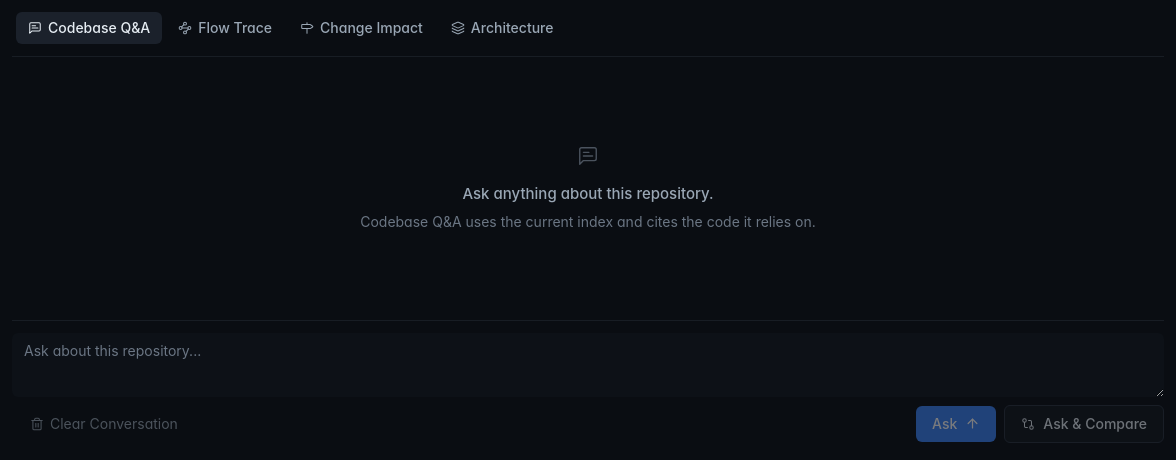
Test case: analysis workspace › removes both visible and stored turns only when Clear Conversation is pressed
Step 1. Type "Clearable question" into the text box named "Question" → (588, 364), box top-left (12, 332), bottom-right (1164, 396)
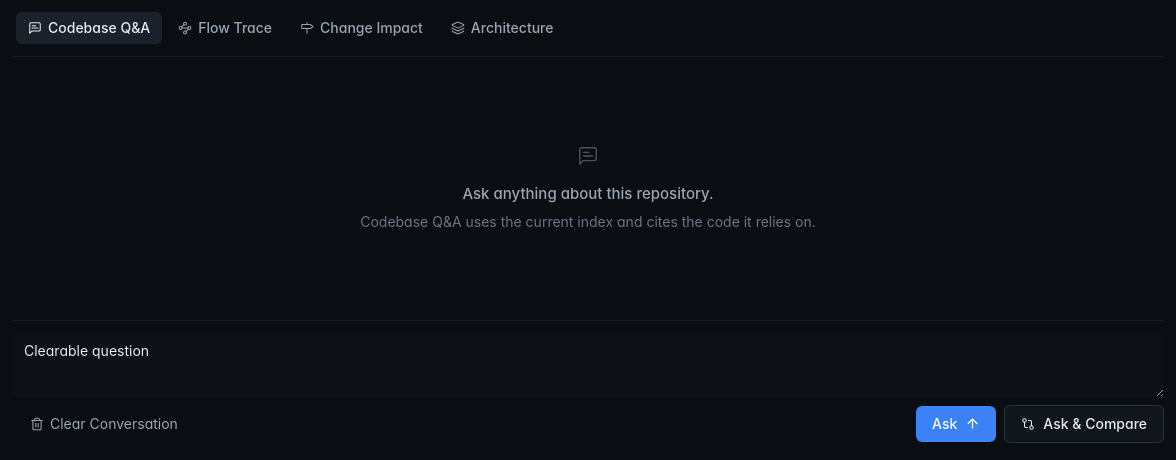
Step 2. Click the button "Ask" → (956, 424), box top-left (916, 406), bottom-right (996, 442)
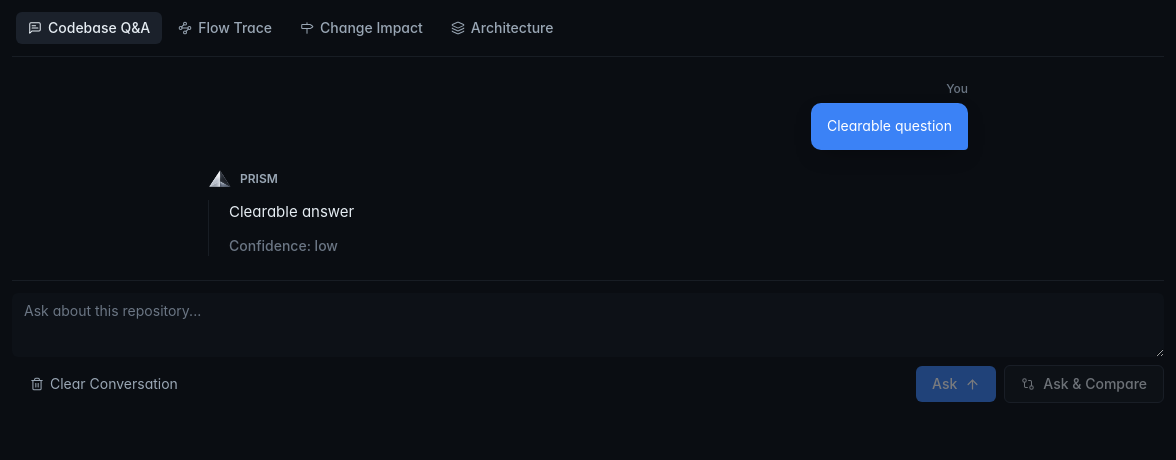
Check: the text "Clearable answer" is shown, box top-left (229, 202), bottom-right (354, 221)
Step 3. Click the button "Clear Conversation" → (104, 384), box top-left (20, 368), bottom-right (188, 400)
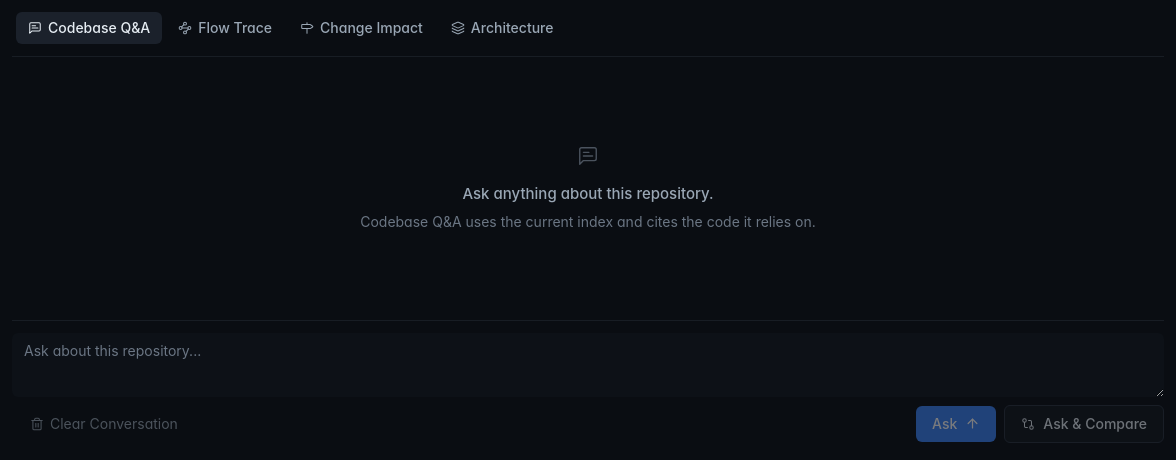
Check: the text "Clearable answer" is gone
